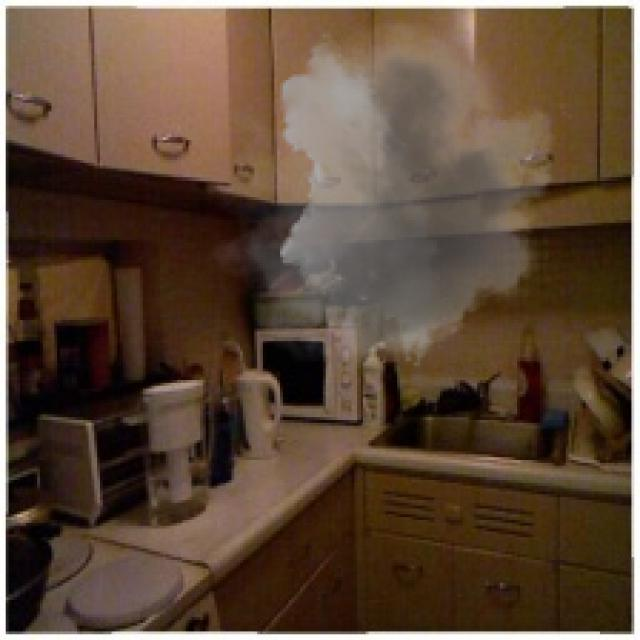smoke: (206, 20, 571, 380)
